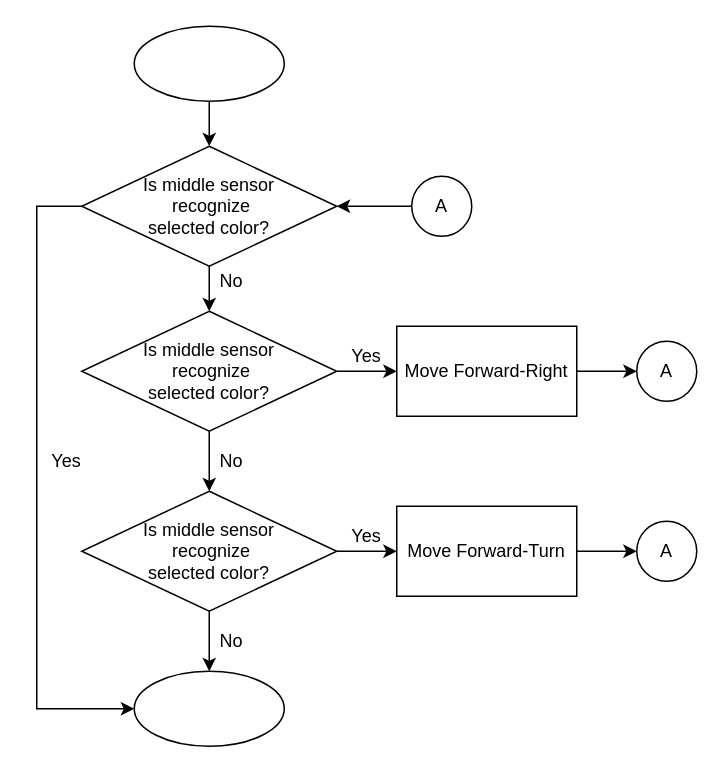
Image size: 723x773. Some labels were removed from this diagram. The centre of each missing label's shape, as x and y in pixels:
"Return" belongs at point (208, 708).
"Start" belongs at point (208, 63).
